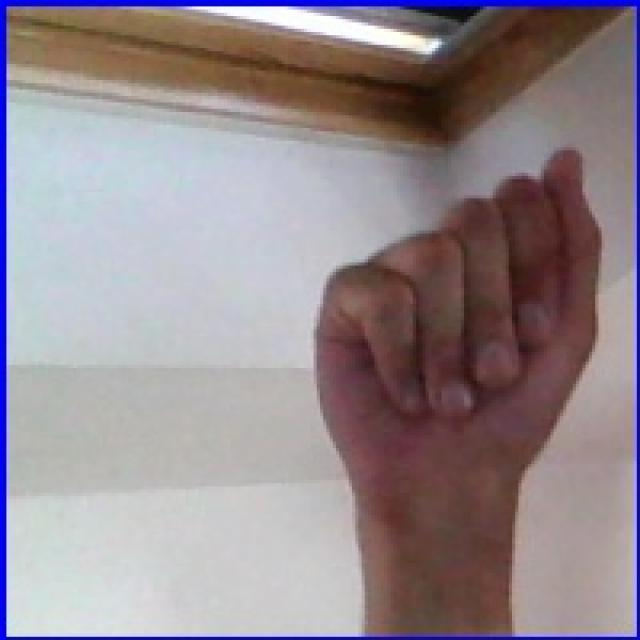Letra A: (237, 132, 618, 562)
